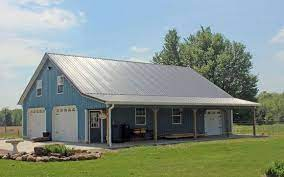Tin-shade House: (14, 49, 263, 140)
